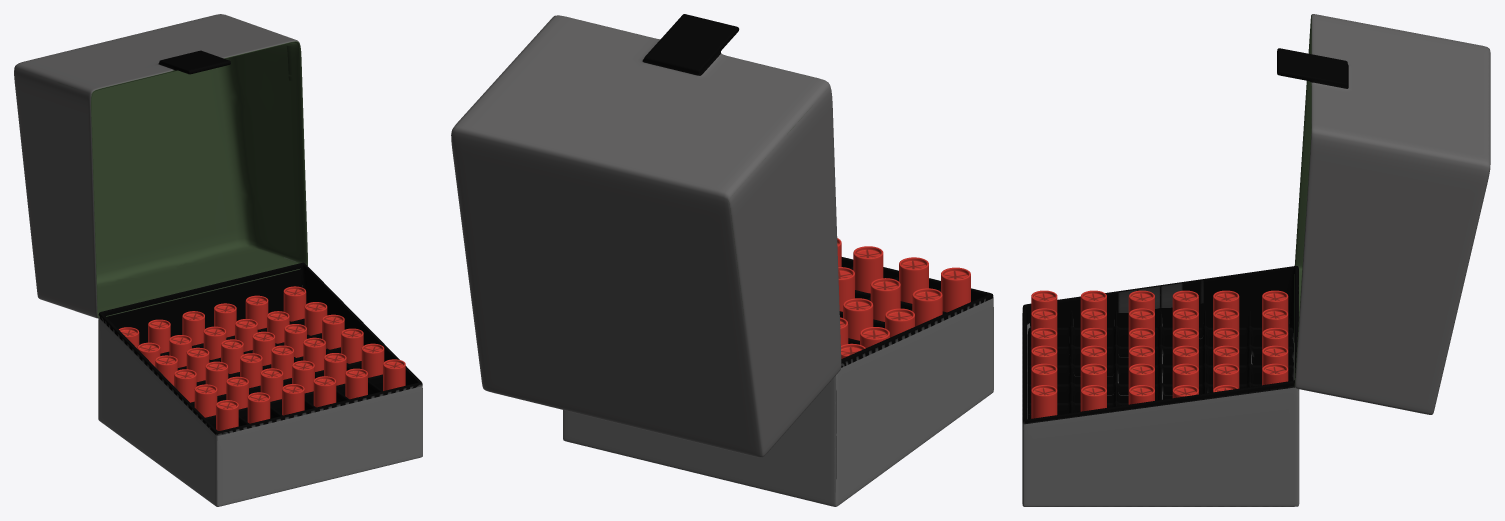
The model's file is Ammo_Box_Open.fbx.
The picture shows the model from 3 angles, left to right: view 1: azimuth 30°, elevation 25°; view 2: azimuth 150°, elevation 25°; view 3: azimuth 270°, elevation 25°; orthographic projection. The views are drawn at different scales.
Visible parts, largest first — view 1: Ammo_Lid, Ammo_Base, Shells; view 2: Ammo_Lid, Ammo_Base, Shells; view 3: Ammo_Lid, Ammo_Base, Shells.
Boxes of the visible parts, left/top/right/bottom form: Ammo_Lid: left=14, top=14, right=307, bottom=318; Ammo_Base: left=98, top=262, right=422, bottom=506; Shells: left=119, top=286, right=405, bottom=430; Ammo_Lid: left=451, top=14, right=841, bottom=457; Ammo_Base: left=563, top=257, right=993, bottom=506; Shells: left=837, top=238, right=970, bottom=358; Ammo_Lid: left=1277, top=14, right=1490, bottom=414; Ammo_Base: left=1022, top=266, right=1299, bottom=506; Shells: left=1031, top=290, right=1288, bottom=418.
Bounding box in the file's own units: 0.2284 × 0.3446 × 0.3754.
3 materials, 3 textured.
